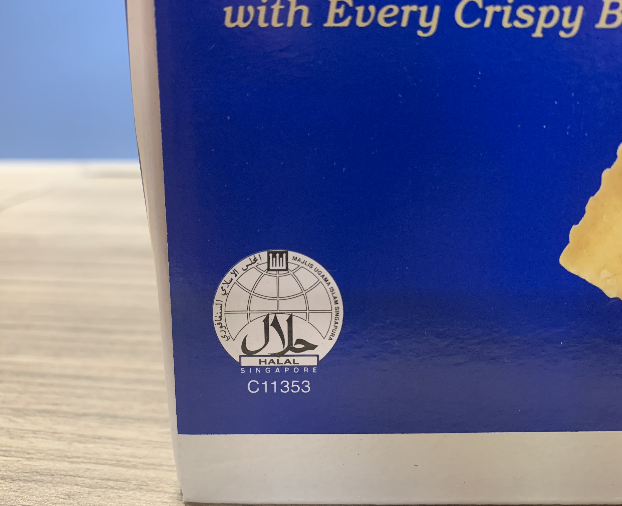halal: (236, 261, 328, 373)
